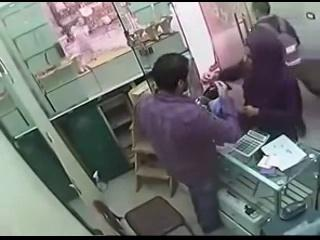Normal: (134, 53, 242, 233), (218, 22, 307, 142), (247, 4, 307, 135), (93, 196, 194, 236), (232, 129, 270, 158)
